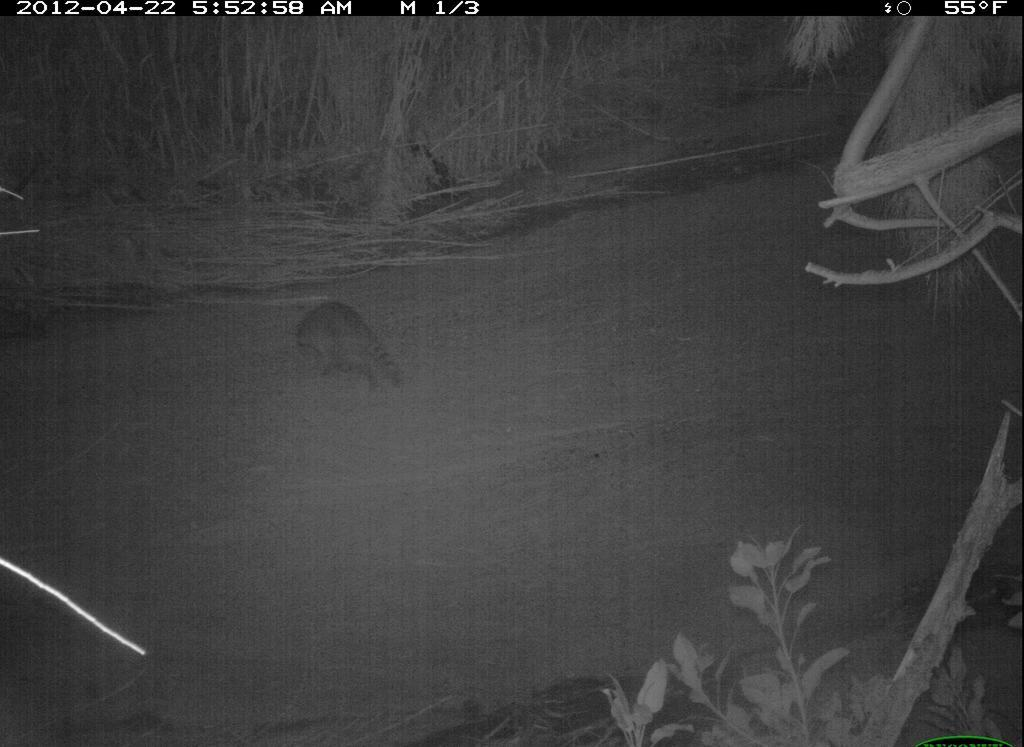raccoon: (283, 292, 417, 401)
